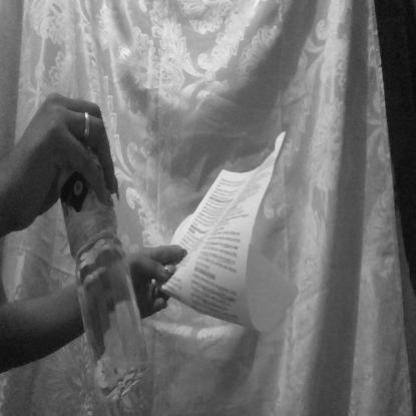Plastic Bottle: (21, 59, 155, 416)
